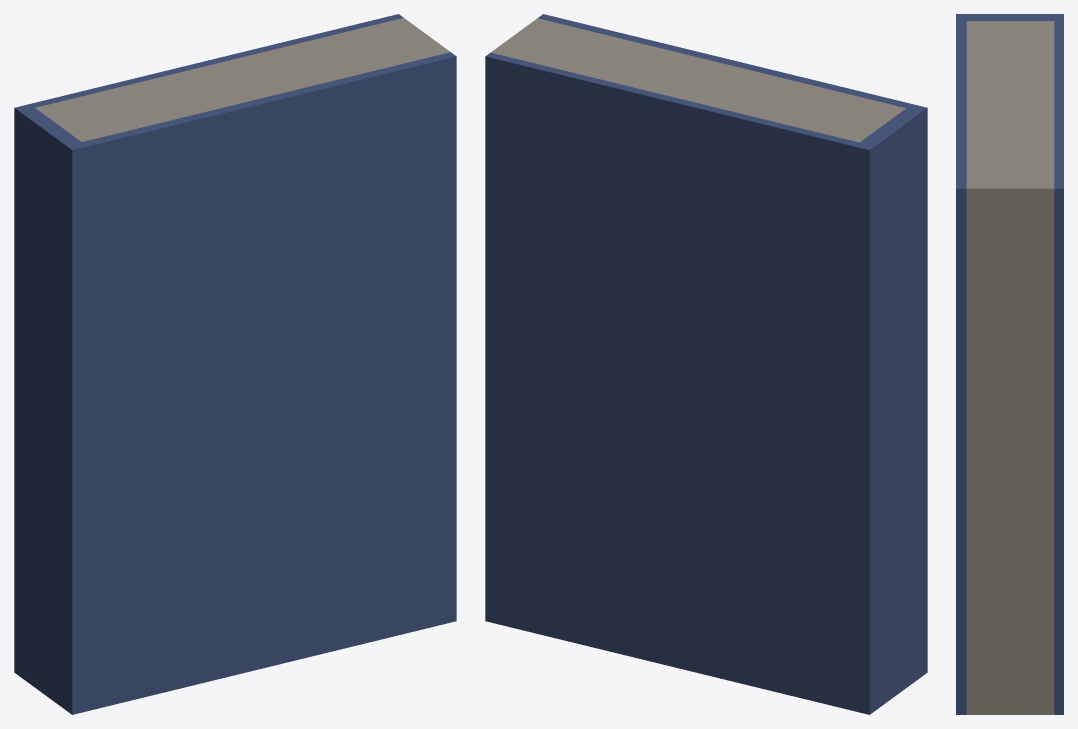
The model's file is Books_4.fbx.
3 renders of one model, left to right at view 1: azimuth 30°, elevation 25°; view 2: azimuth 150°, elevation 25°; view 3: azimuth 270°, elevation 25°, orthographic. The views are drawn at different scales.
Visible parts, largest first — view 1: pCube767; view 2: pCube767; view 3: pCube767.
Boxes of the visible parts, <box> form: pCube767: <box>14,14,456,714</box>; pCube767: <box>485,14,927,714</box>; pCube767: <box>956,14,1063,714</box>.
Size of the model in its own units: 0.383 by 0.5379 by 0.1.
Materials: 1 (1 with a texture image).
